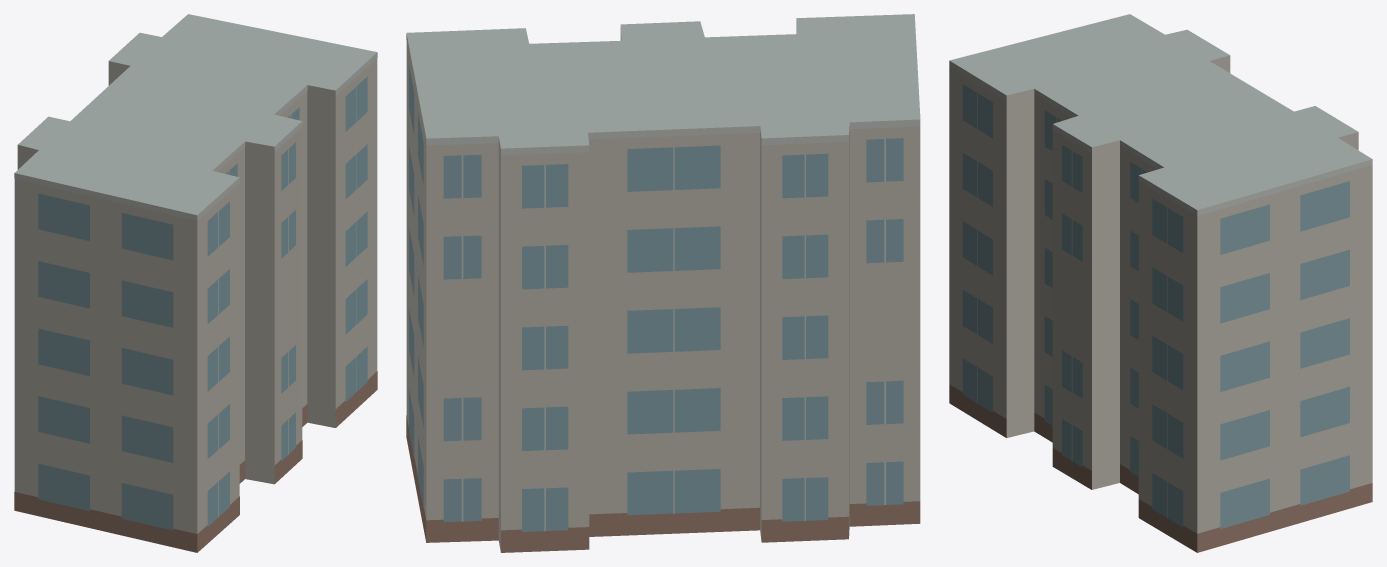
File: survey-upis-33007930.glb
3 views of the same model, side by side, from view 1: azimuth 30°, elevation 25°; view 2: azimuth 150°, elevation 25°; view 3: azimuth 270°, elevation 25° (orthographic). The views are drawn at different scales.
Parts seen in each view (by area): view 1: survey-upis-33007930.tmp; view 2: survey-upis-33007930.tmp; view 3: survey-upis-33007930.tmp.
Part boxes in pixels (x1,y1,x2,y2): survey-upis-33007930.tmp: [14, 14, 377, 552]; survey-upis-33007930.tmp: [406, 14, 920, 552]; survey-upis-33007930.tmp: [949, 14, 1372, 552].
Bounding box in the file's own units: 17.81 × 14.5 × 16.24.
